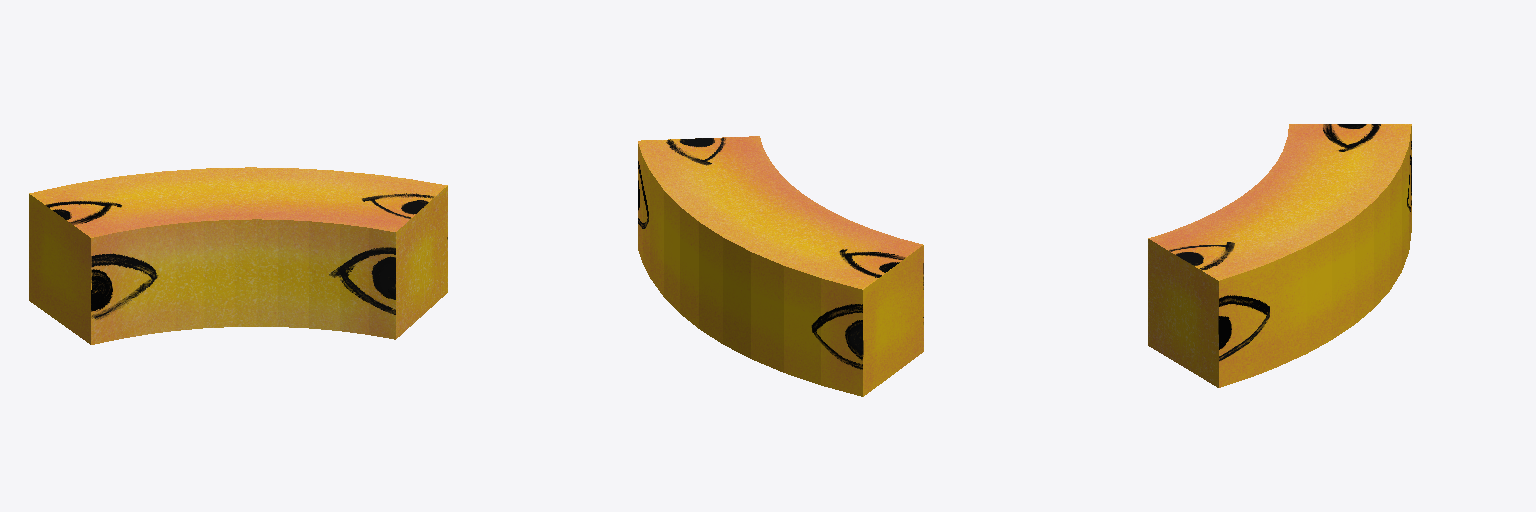
The picture shows the model from 3 angles: view 1: azimuth 30°, elevation 25°; view 2: azimuth 150°, elevation 25°; view 3: azimuth 270°, elevation 25°; orthographic projection.
Visible parts, largest first — view 1: Extrude.1_default; view 2: Extrude.1_default; view 3: Extrude.1_default.
Part boxes in pixels (left/top/right/bottom): Extrude.1_default: left=29, top=167, right=447, bottom=344; Extrude.1_default: left=638, top=136, right=923, bottom=396; Extrude.1_default: left=1148, top=124, right=1411, bottom=387.
Size of the model in its own units: 22.01 by 7 by 15.59.
Materials: 1 (1 with a texture image).